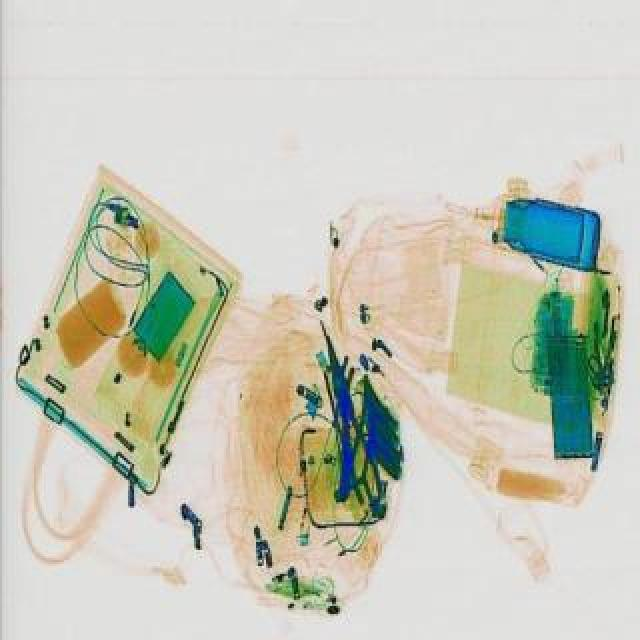wrench: (310, 334, 386, 502)
